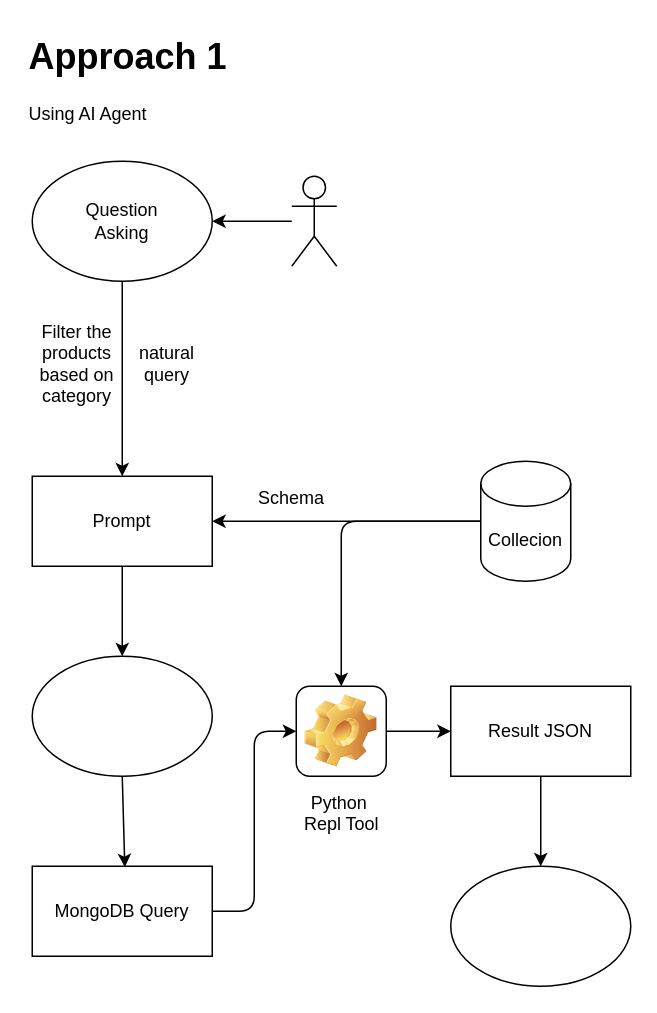
Image size: 657x1013. Some labels were removed from this diagram. Each missing label, with the centre of its shape:
Generatre Mongo Query using IBM WatsonX: (x=121, y=715)
Summarize or Return Response: (x=540, y=925)
User: (x=313, y=220)
